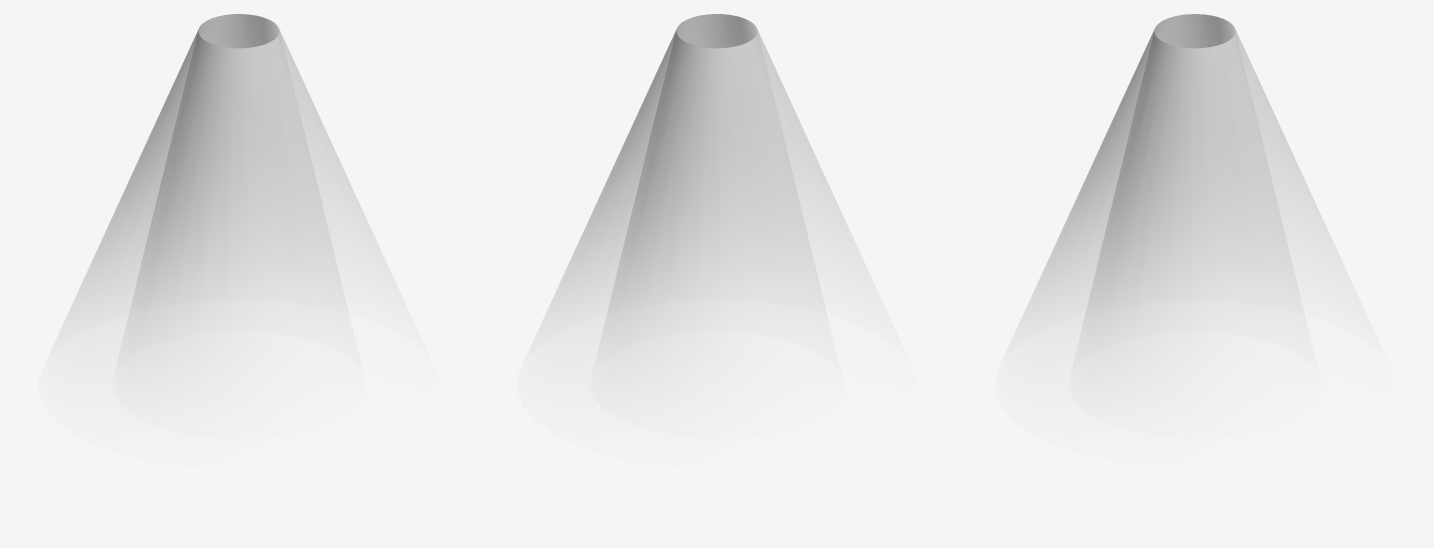
The model's file is Light_FX.fbx.
The picture shows the model from 3 angles, left to right: view 1: azimuth 30°, elevation 25°; view 2: azimuth 150°, elevation 25°; view 3: azimuth 270°, elevation 25°; orthographic projection.
Visible parts, largest first — view 1: Cylinder.001, Cylinder; view 2: Cylinder.001, Cylinder; view 3: Cylinder.001, Cylinder.
Part boxes in pixels (box(x1,y1,x2,y2)): Cylinder.001: box(66, 14, 411, 335); Cylinder: box(129, 14, 347, 319); Cylinder.001: box(544, 14, 889, 335); Cylinder: box(608, 14, 826, 319); Cylinder.001: box(1022, 14, 1367, 334); Cylinder: box(1086, 14, 1303, 318).
Bounding box in the file's own units: 200 × 200 × 200.
